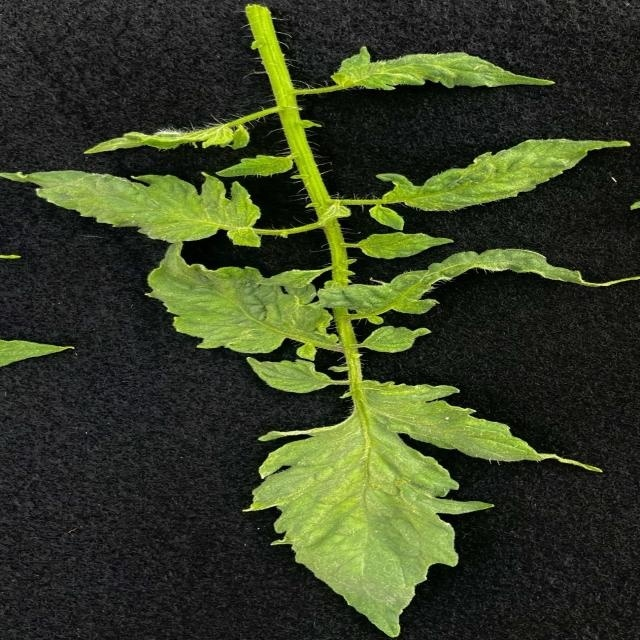T_L_R: (253, 411, 492, 637), (148, 243, 344, 355), (318, 250, 625, 320), (1, 172, 262, 247), (378, 140, 632, 211), (362, 381, 555, 462), (334, 47, 553, 91), (248, 359, 350, 394), (360, 327, 432, 354), (218, 156, 294, 177)
T_S_R: (248, 6, 334, 218), (334, 310, 362, 382), (325, 220, 355, 287)
